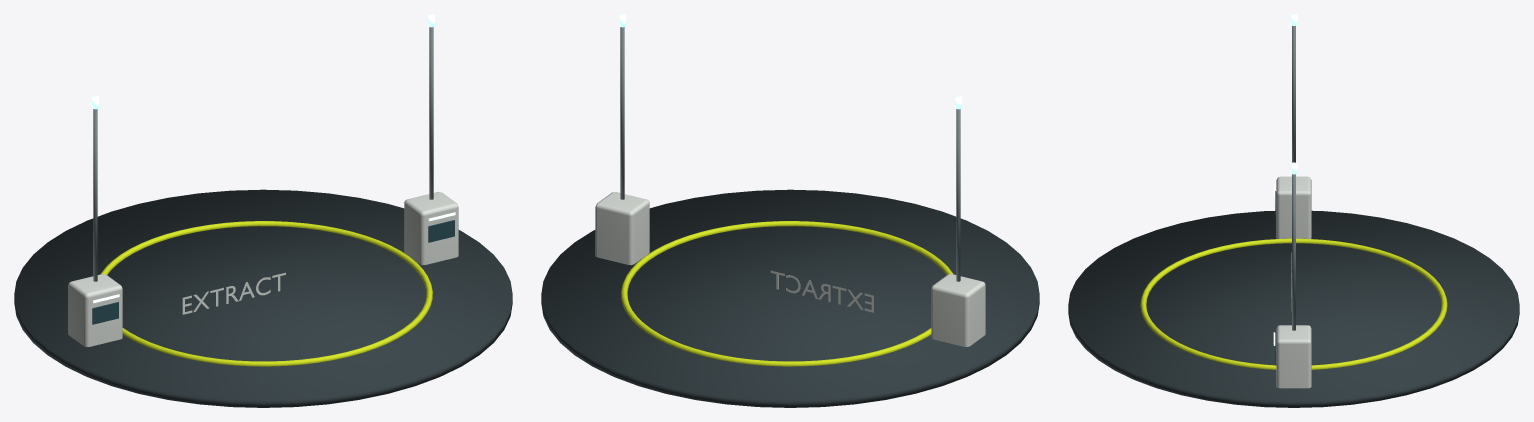
Rendered from extraction_pad.glb.
3 renders of one model, left to right at view 1: azimuth 30°, elevation 25°; view 2: azimuth 150°, elevation 25°; view 3: azimuth 270°, elevation 25°, orthographic. The views are drawn at different scales.
Parts seen in each view (by area): view 1: extraction_pad; view 2: extraction_pad; view 3: extraction_pad.
Part boxes in pixels (left/top/right/bottom): extraction_pad: left=14, top=14, right=512, bottom=407; extraction_pad: left=541, top=14, right=1039, bottom=407; extraction_pad: left=1068, top=14, right=1519, bottom=407.
Bounding box in the file's own units: 18 × 9.8 × 18.
